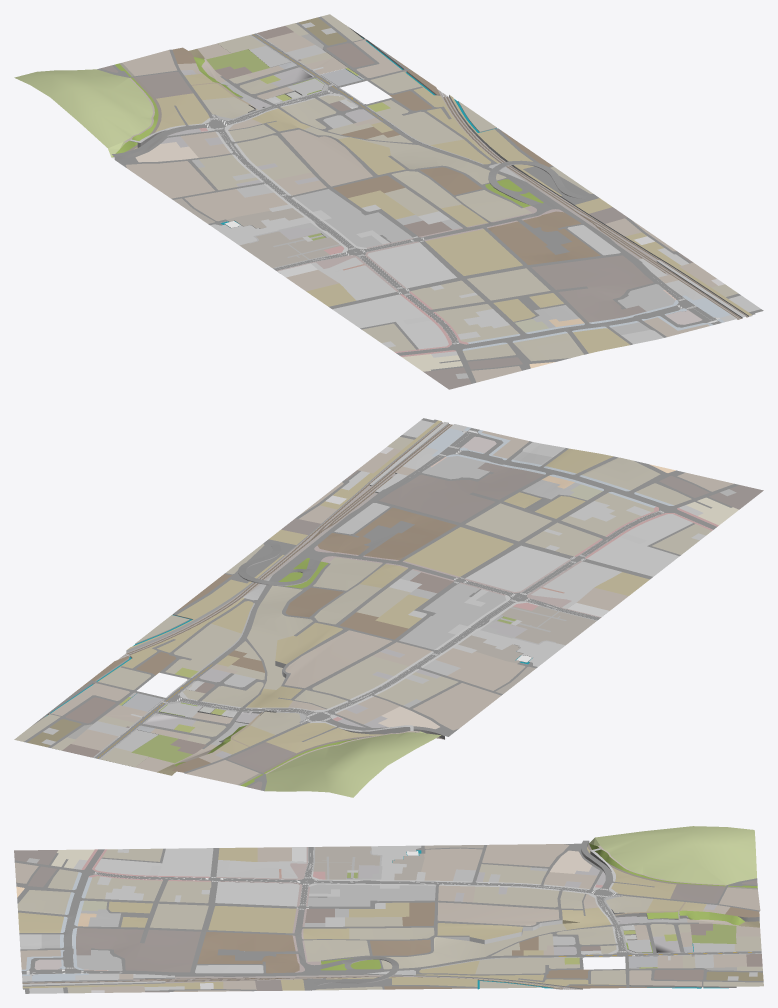
The model's file is sabae-pj3d-land.gltf.
3 renders of one model, top to bottom at view 1: azimuth 30°, elevation 25°; view 2: azimuth 150°, elevation 25°; view 3: azimuth 270°, elevation 25°, orthographic. The views are drawn at different scales.
Visible parts, largest first — view 1: Mesh51 Group56 Group1 Model, Mesh6 Group9 Group1 Model, Mesh3 Group5 Group1 Model, Mesh41 Group47 Group1 Model, Mesh43 Group50 Group1 Model, Mesh37 Group43 Group1 Model, Mesh9 Group14 Group13 Group1 Model, Mesh42 Group49 Group48 Group1 Model, Mesh12 Group15 Group1 Model, Mesh39 Group45 Group1 Model, Mesh40 Group46 Group1 Model, Mesh38 Group44 Group1 Model (+5 smaller); view 2: Mesh51 Group56 Group1 Model, Mesh6 Group9 Group1 Model, Mesh3 Group5 Group1 Model, Mesh41 Group47 Group1 Model, Mesh43 Group50 Group1 Model, Mesh37 Group43 Group1 Model, Mesh9 Group14 Group13 Group1 Model, Mesh42 Group49 Group48 Group1 Model, Mesh12 Group15 Group1 Model, Mesh39 Group45 Group1 Model, Mesh40 Group46 Group1 Model, Mesh38 Group44 Group1 Model (+5 smaller); view 3: Mesh51 Group56 Group1 Model, Mesh6 Group9 Group1 Model, Mesh3 Group5 Group1 Model, Mesh41 Group47 Group1 Model, Mesh43 Group50 Group1 Model, Mesh37 Group43 Group1 Model, Mesh9 Group14 Group13 Group1 Model, Mesh42 Group49 Group48 Group1 Model, Mesh12 Group15 Group1 Model, Mesh39 Group45 Group1 Model, Mesh40 Group46 Group1 Model, Mesh38 Group44 Group1 Model (+8 smaller).
Boxes of the visible parts, x1,y1,x2,y2 form: Mesh51 Group56 Group1 Model: (97, 14, 763, 389); Mesh6 Group9 Group1 Model: (14, 69, 152, 157); Mesh3 Group5 Group1 Model: (487, 209, 600, 264); Mesh41 Group47 Group1 Model: (294, 189, 412, 247); Mesh43 Group50 Group1 Model: (332, 294, 448, 349); Mesh37 Group43 Group1 Model: (237, 135, 326, 195); Mesh9 Group14 Group13 Group1 Model: (134, 71, 209, 149); Mesh42 Group49 Group48 Group1 Model: (493, 293, 583, 332); Mesh12 Group15 Group1 Model: (257, 23, 347, 74); Mesh39 Group45 Group1 Model: (435, 304, 519, 342); Mesh40 Group46 Group1 Model: (135, 131, 230, 162); Mesh38 Group44 Group1 Model: (411, 280, 484, 309); Mesh51 Group56 Group1 Model: (14, 418, 763, 791); Mesh6 Group9 Group1 Model: (264, 731, 441, 797); Mesh3 Group5 Group1 Model: (314, 507, 456, 561); Mesh41 Group47 Group1 Model: (399, 583, 505, 649); Mesh43 Group50 Group1 Model: (587, 514, 692, 576); Mesh37 Group43 Group1 Model: (312, 642, 431, 699); Mesh9 Group14 Group13 Group1 Model: (228, 723, 383, 772); Mesh42 Group49 Group48 Group1 Model: (504, 476, 602, 518); Mesh12 Group15 Group1 Model: (51, 705, 147, 757); Mesh39 Group45 Group1 Model: (561, 493, 654, 536); Mesh40 Group46 Group1 Model: (336, 696, 439, 729); Mesh38 Group44 Group1 Model: (525, 522, 600, 556); Mesh51 Group56 Group1 Model: (14, 840, 763, 993); Mesh6 Group9 Group1 Model: (589, 826, 756, 884); Mesh3 Group5 Group1 Model: (197, 932, 304, 973); Mesh41 Group47 Group1 Model: (307, 884, 435, 906); Mesh43 Group50 Group1 Model: (95, 848, 213, 876); Mesh37 Group43 Group1 Model: (438, 885, 559, 907); Mesh9 Group14 Group13 Group1 Model: (587, 847, 724, 903); Mesh42 Group49 Group48 Group1 Model: (78, 900, 152, 927); Mesh12 Group15 Group1 Model: (657, 954, 762, 970); Mesh39 Group45 Group1 Model: (85, 876, 162, 901); Mesh40 Group46 Group1 Model: (543, 850, 599, 888); Mesh38 Group44 Group1 Model: (159, 881, 211, 903).
Bounding box in the file's own units: 534 × 43.29 × 1140.
